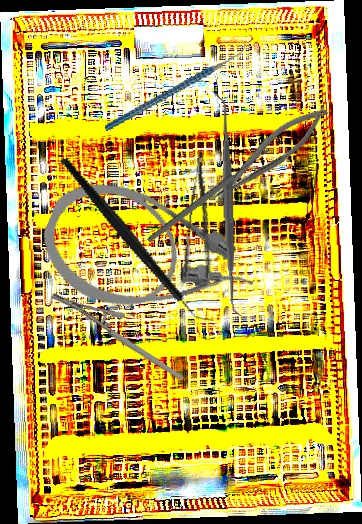Cannula: (27, 163, 269, 354)
Chopper: (60, 129, 215, 352), (94, 39, 258, 131)
Dressing Forceps: (180, 151, 226, 280)
Needle Holder: (49, 262, 185, 412), (199, 98, 336, 212)
Spatula Surgical: (212, 90, 244, 318)
Surgical Spoon: (145, 146, 273, 244)
